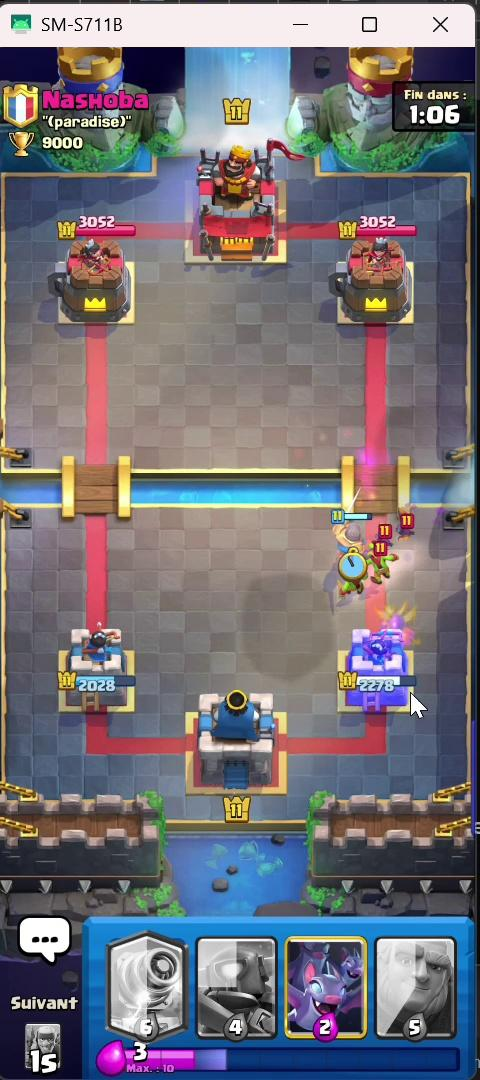bat: (392, 509, 423, 549), (368, 523, 405, 546)
chevalier: (324, 510, 375, 565)
gobelin: (364, 545, 403, 591), (333, 564, 366, 610)
